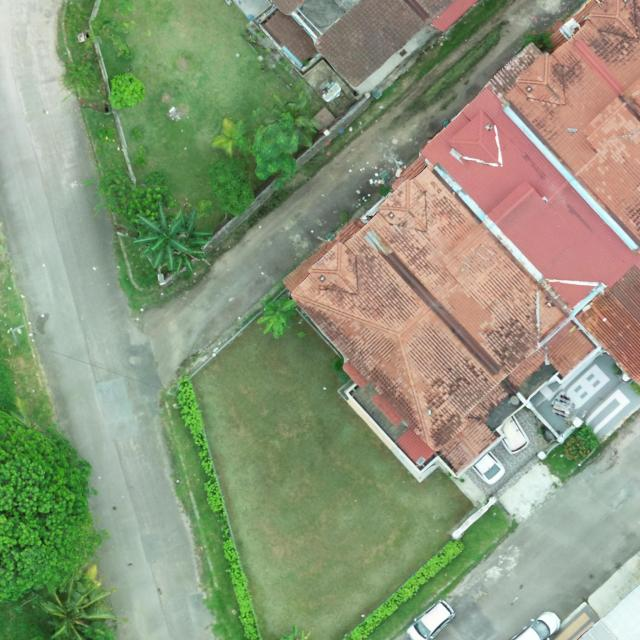Tree: (0, 408, 104, 604), (38, 562, 126, 640), (250, 91, 312, 180), (100, 164, 177, 232), (133, 200, 189, 271), (168, 209, 214, 278), (207, 158, 256, 218), (256, 294, 298, 339), (210, 117, 247, 158), (108, 71, 146, 110), (62, 59, 100, 98)
